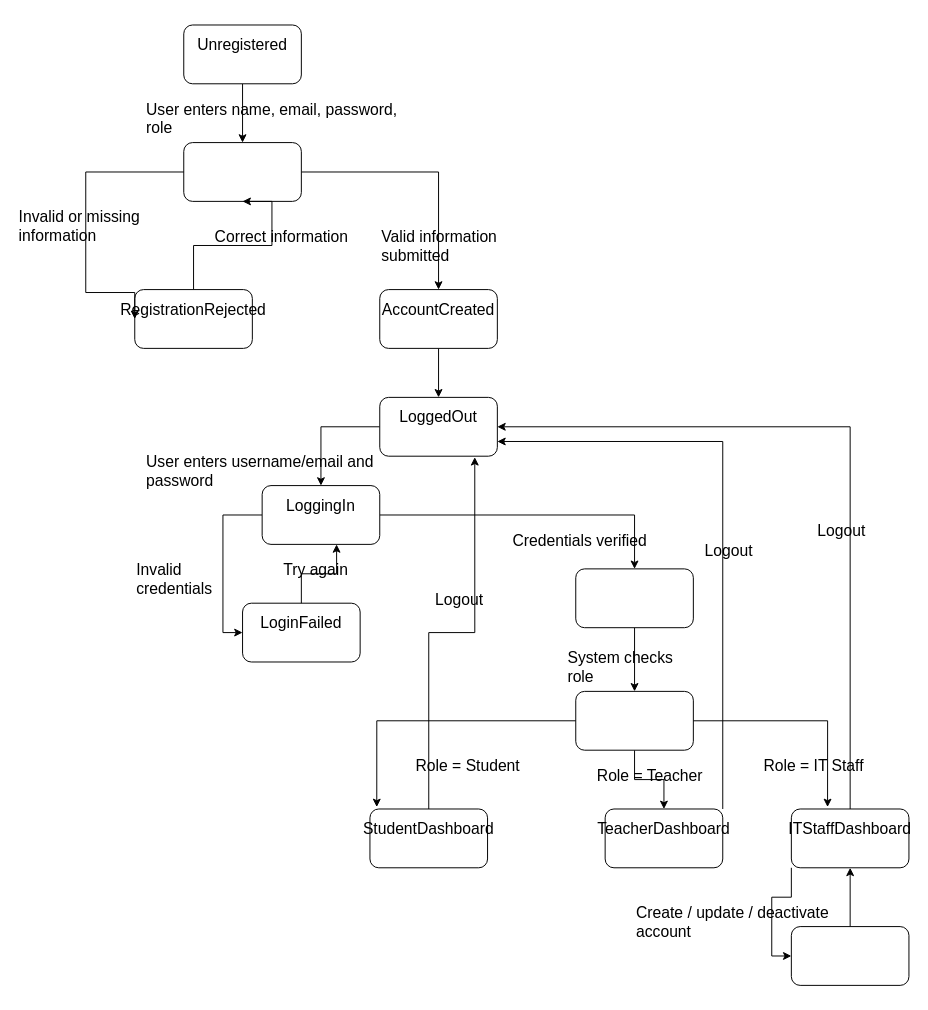
Some shapes in this 928 by 1010 pixel diagram are drawn without their labels. The centre of each missing label's shape, as x and y in pixels:
"AccountUpdated" goes at (849,955).
"Authenticated" goes at (634,598).
"Registering" goes at (242,171).
"RoleChecked" goes at (634,720).
